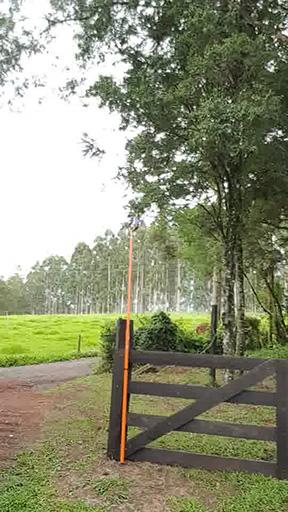Vara_Manobra: (118, 235, 135, 465)
